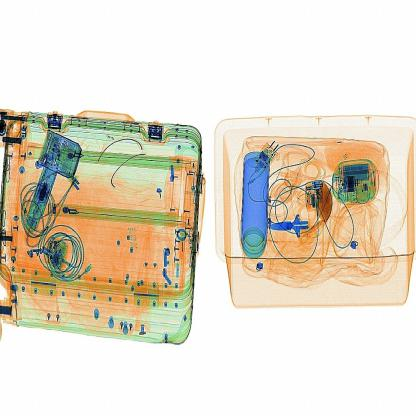gun: (260, 195, 322, 252)
